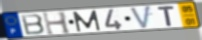4: (104, 8, 124, 31)
B: (19, 13, 47, 36)
H: (41, 11, 73, 36)
M: (72, 9, 103, 33)
T: (156, 5, 176, 27)
V: (128, 5, 152, 30)
